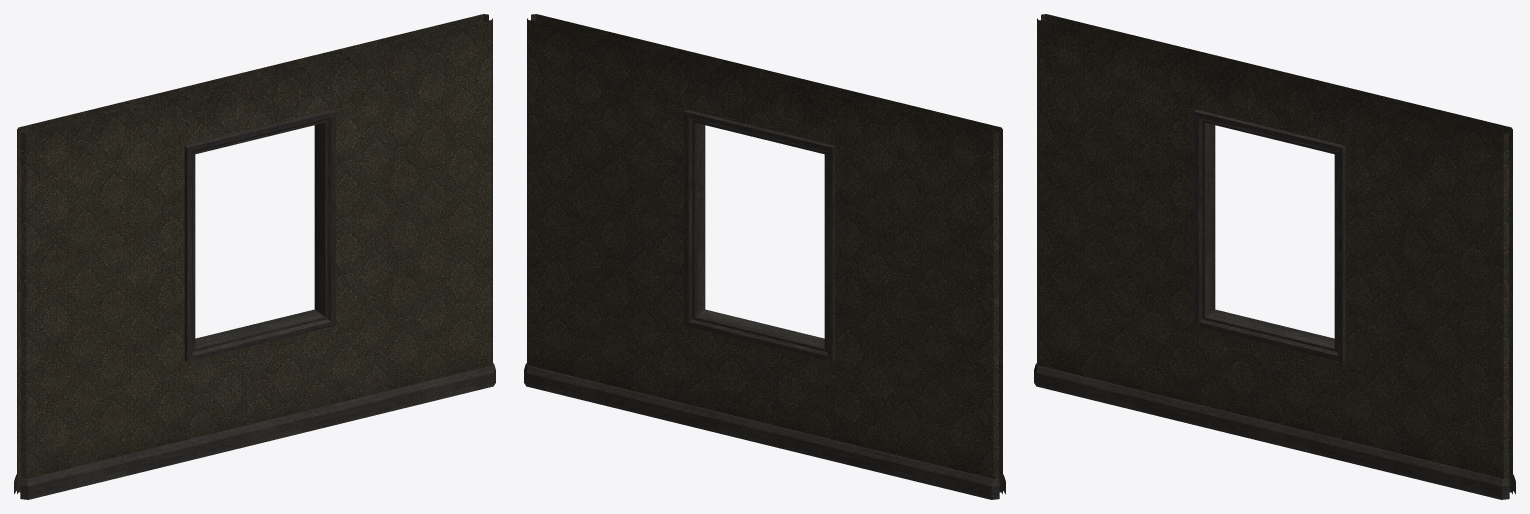
File: window_2_2_single_frame_only.glb
The picture shows the model from 3 angles, left to right: view 1: azimuth 30°, elevation 25°; view 2: azimuth 150°, elevation 25°; view 3: azimuth 330°, elevation 25°; orthographic projection.
Visible parts, largest first — view 1: window_2_2_single_frame_only; view 2: window_2_2_single_frame_only; view 3: window_2_2_single_frame_only.
Part boxes in pixels (x1=…): window_2_2_single_frame_only: x1=14, y1=14, x2=495, y2=499; window_2_2_single_frame_only: x1=524, y1=14, x2=1005, y2=499; window_2_2_single_frame_only: x1=1034, y1=14, x2=1515, y2=499.
Size of the model in its own units: 4.09 by 3 by 0.2.
2 materials, 2 textured.
